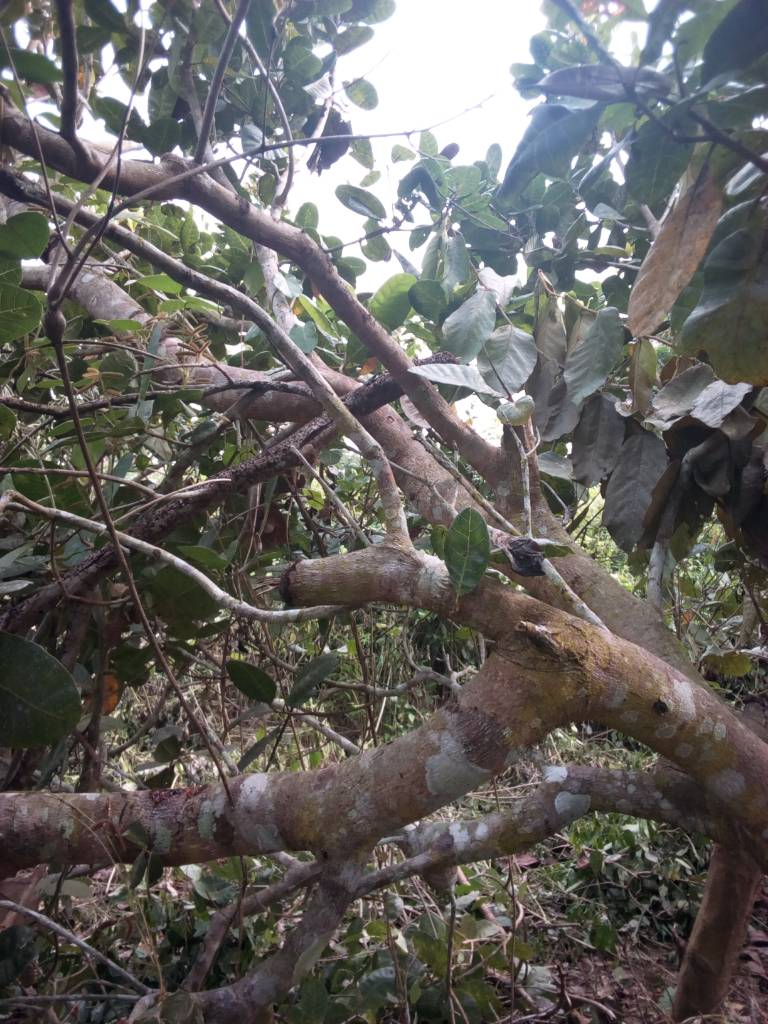Analepse trifasciata: (258, 553, 330, 622)
